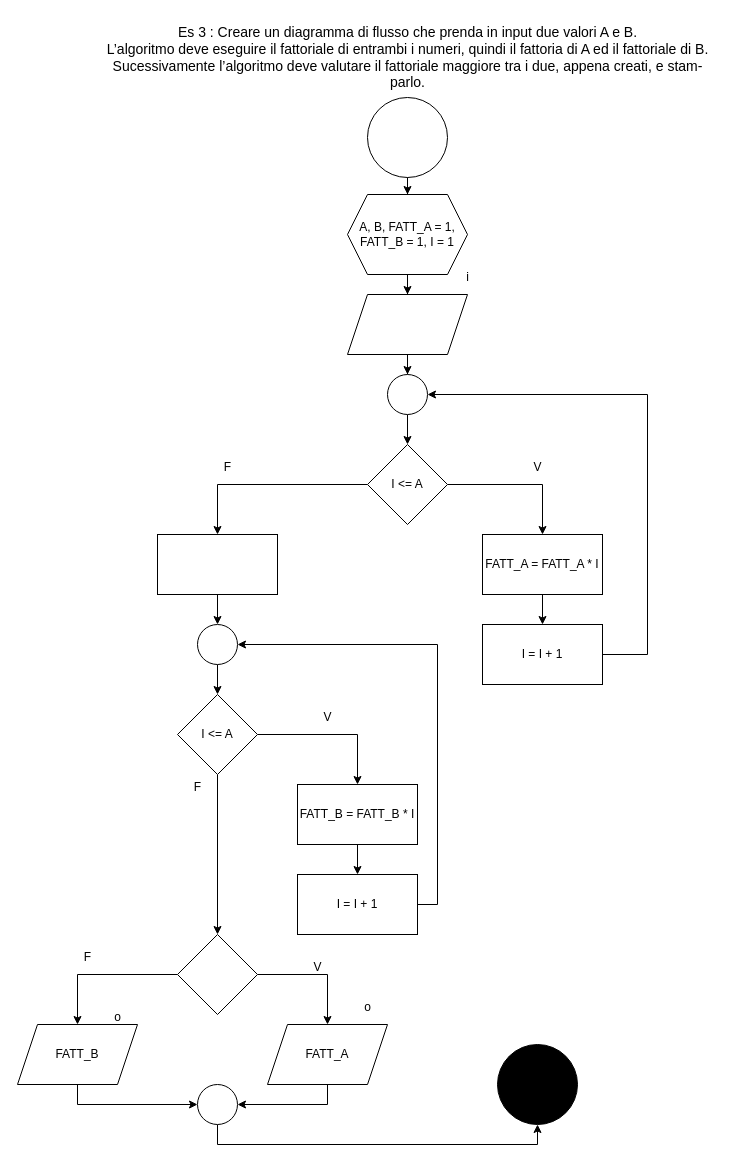
Image size: 740x1170. Some labels were removed from this diagram. The shapes that lost their labels are listed below. From the top down, each one's centre as x and y in pixels, then its label:
the point at 407,324: A, B
the point at 217,564: I = 1
the point at 217,974: FATT_A >= FATT_B
